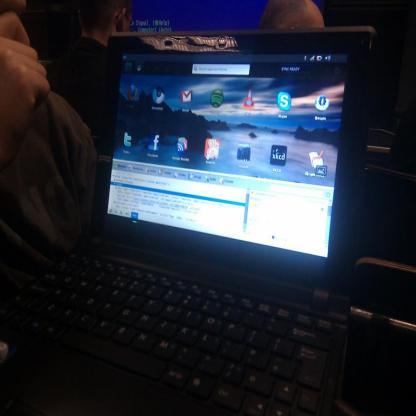board: (6, 29, 376, 416)
